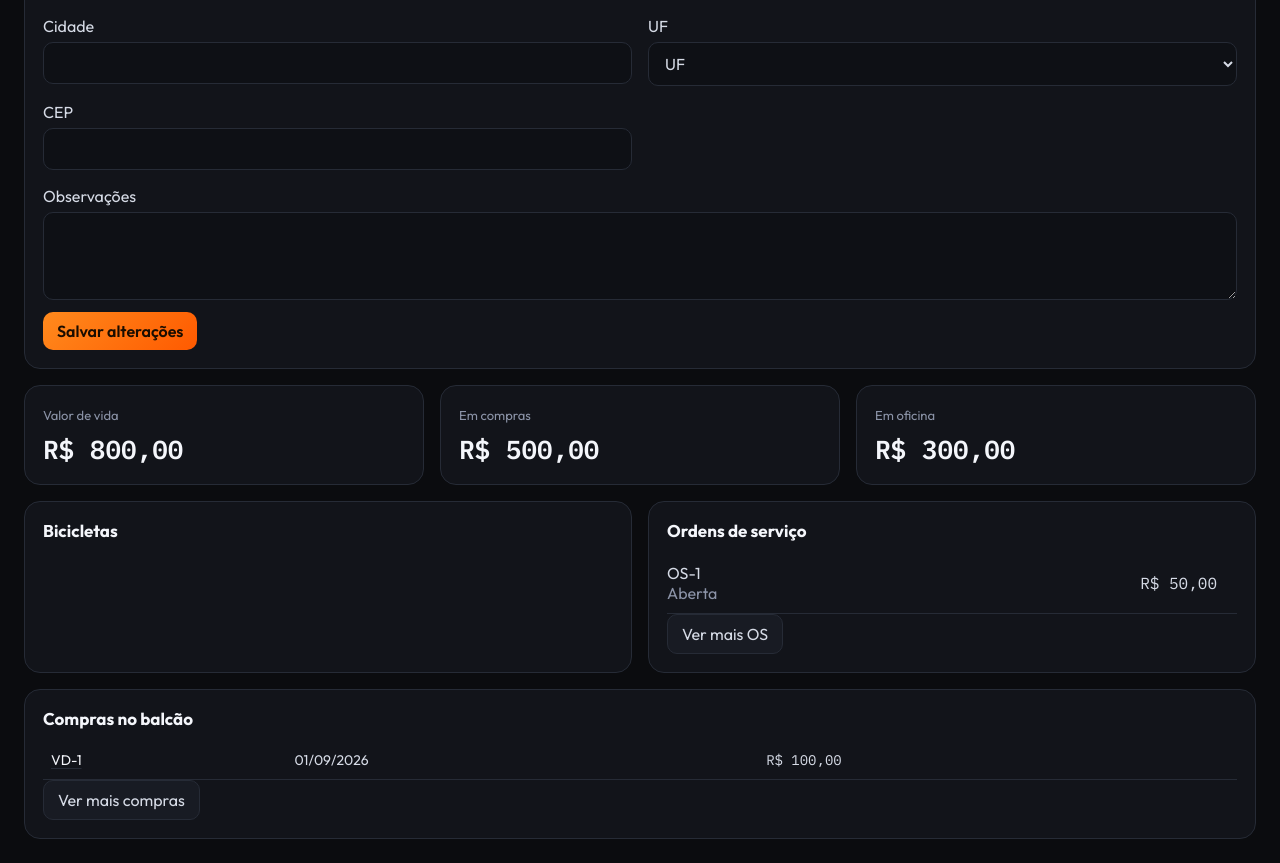
Scenario: Ficha do cliente › mantém os totais e pede a próxima página de compras
The image size is (1280, 863).
(page scrolled)
Expected: the text "R$ 800,00" is shown, [43, 432, 183, 466]
Click the button "Ver mais compras" at (121, 800), box [43, 780, 200, 820]
(page scrolled)
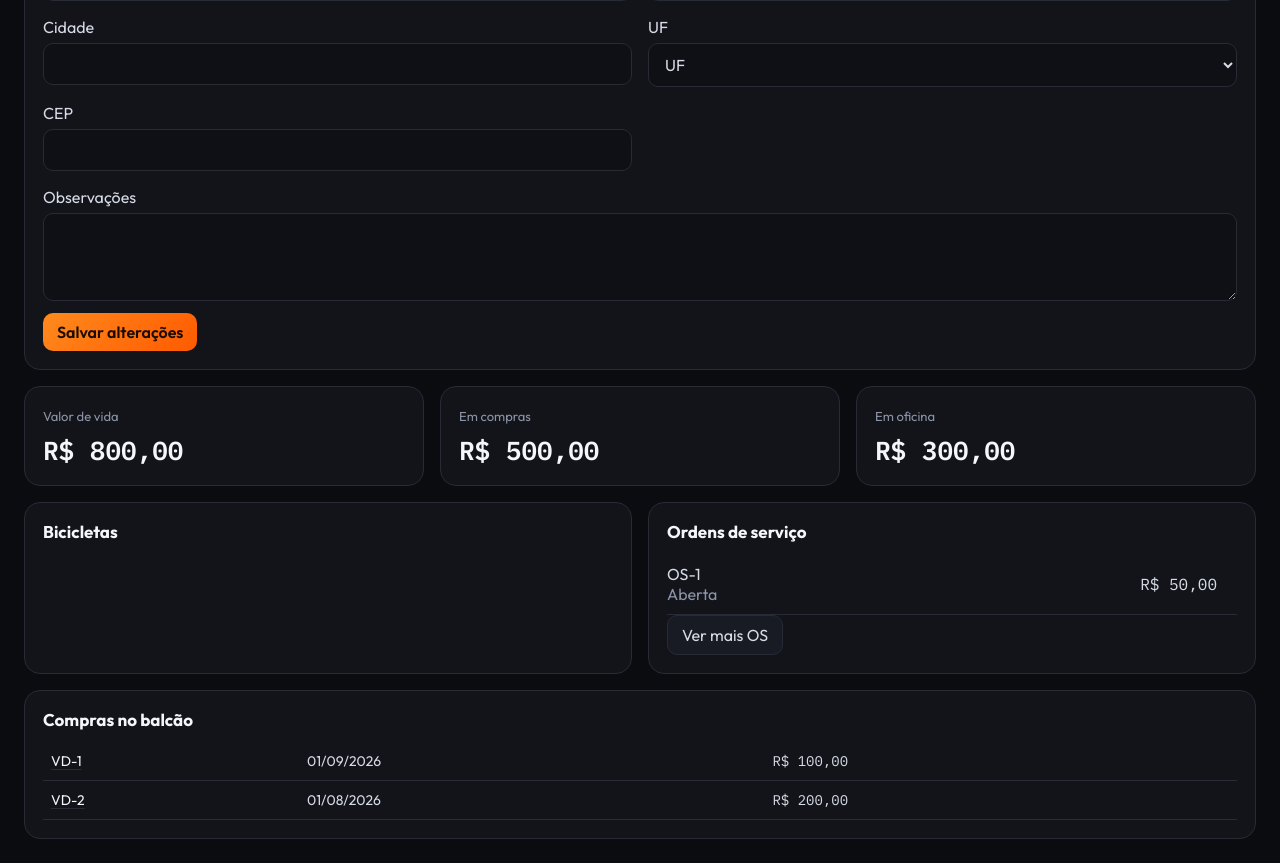
Result: the link "VD-2" is shown at [51, 791, 85, 809]
